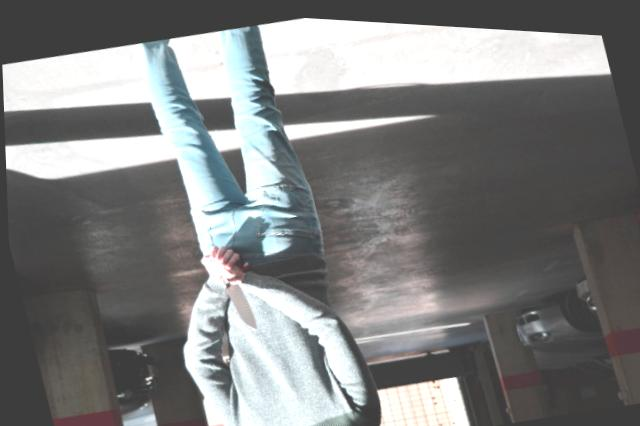long knife: (195, 246, 262, 339)
